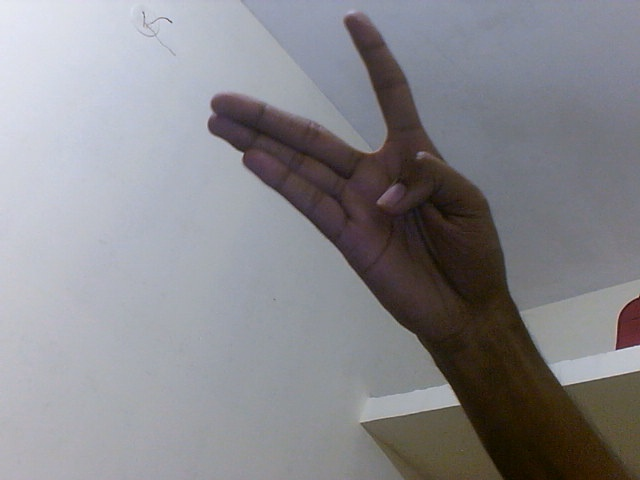hand: (205, 8, 508, 343)
